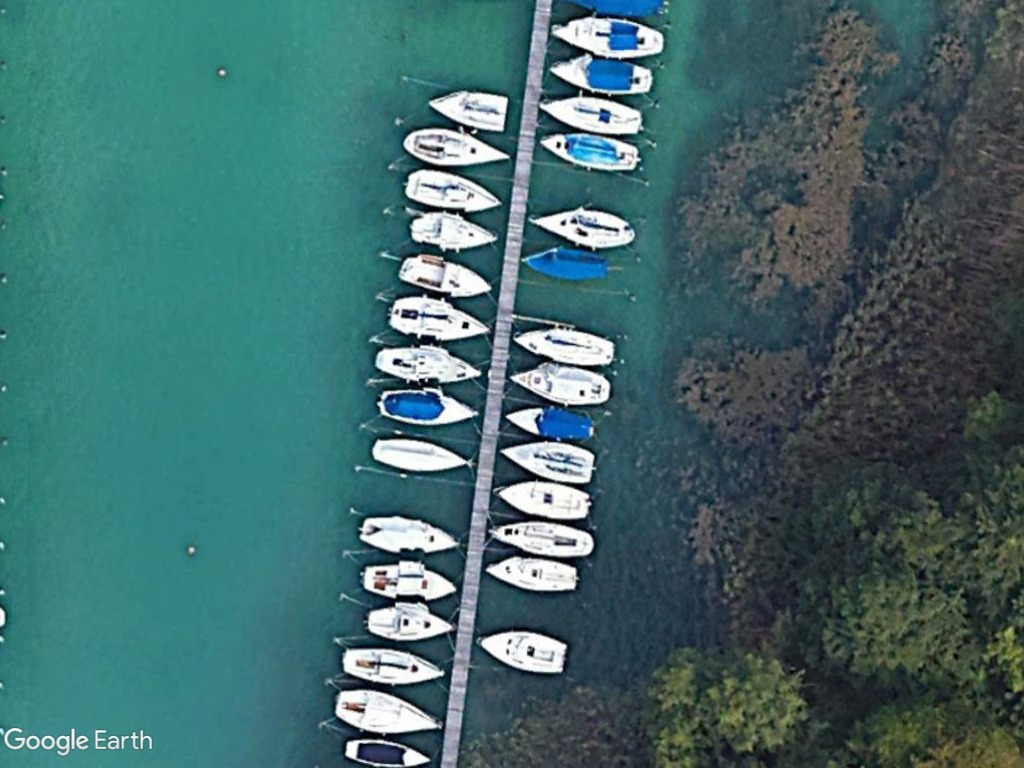boat: (546, 48, 656, 98), (384, 294, 493, 344), (394, 251, 495, 304), (473, 624, 568, 680), (546, 16, 669, 59), (332, 688, 441, 736), (400, 165, 502, 214), (371, 341, 482, 386), (336, 641, 447, 686), (372, 385, 480, 431), (354, 512, 463, 557), (535, 93, 646, 137), (506, 359, 614, 404), (496, 437, 595, 486), (482, 519, 597, 561), (528, 206, 640, 249), (512, 325, 619, 370), (537, 129, 639, 176), (400, 127, 511, 170), (357, 560, 459, 605), (499, 400, 598, 446), (481, 549, 581, 593), (495, 475, 592, 520), (361, 597, 459, 641), (368, 435, 470, 477), (424, 88, 512, 135), (518, 242, 608, 285), (407, 208, 497, 251), (337, 728, 432, 768)
